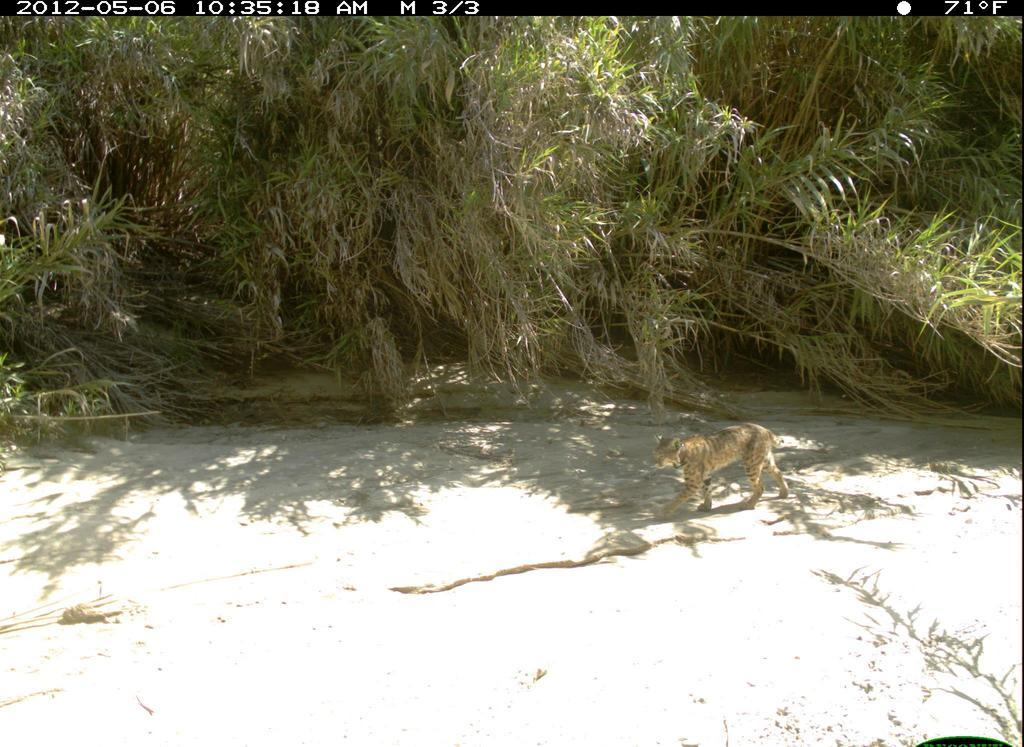bobcat: (647, 422, 795, 527)
